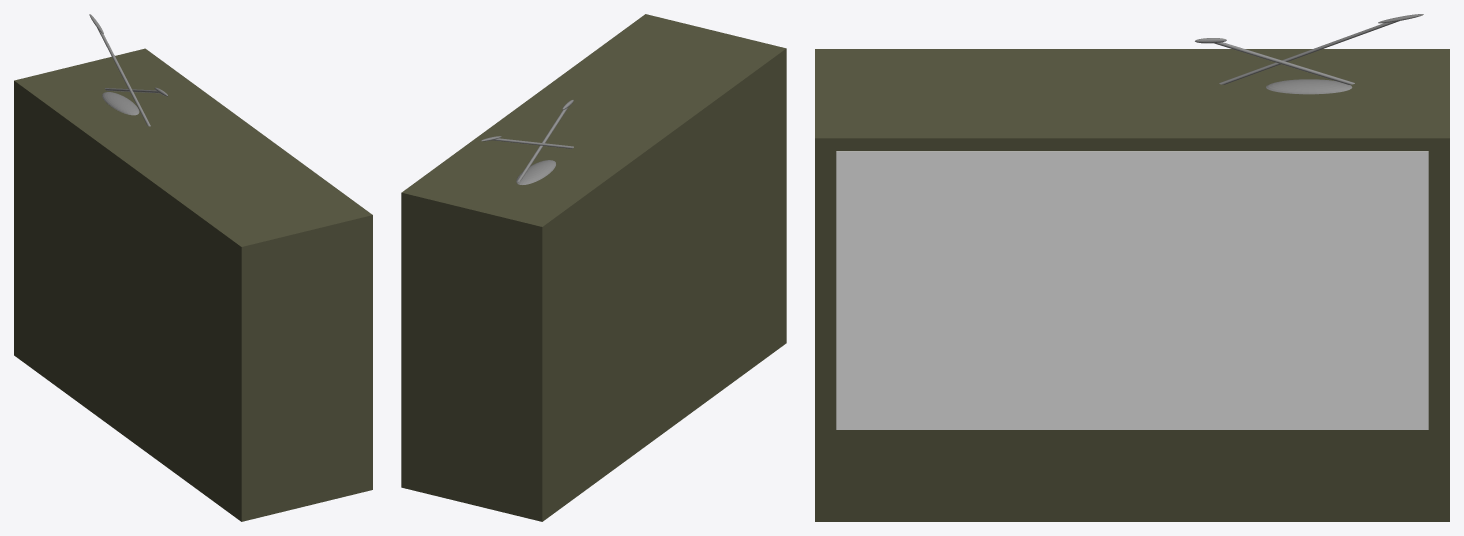
File: Television.glb
3 views of the same model, side by side, from view 1: azimuth 30°, elevation 25°; view 2: azimuth 150°, elevation 25°; view 3: azimuth 270°, elevation 25° (orthographic). The views are drawn at different scales.
Visible parts, largest first — view 1: Box, Antenna_Base; view 2: Box, Antenna_Base; view 3: Screen, Box, Antenna_Base, AntennaSpokeRight.
Boxes of the visible parts, bbox=[...] form: Box: bbox=[14, 48, 372, 521]; Antenna_Base: bbox=[102, 92, 139, 115]; Box: bbox=[401, 14, 786, 521]; Antenna_Base: bbox=[516, 160, 555, 184]; Screen: bbox=[836, 151, 1428, 429]; Box: bbox=[815, 49, 1449, 521]; Antenna_Base: bbox=[1266, 79, 1352, 94]; AntennaSpokeRight: bbox=[1219, 21, 1399, 84].
Bounding box in the file's own units: 2.01 × 4.83 × 6.
